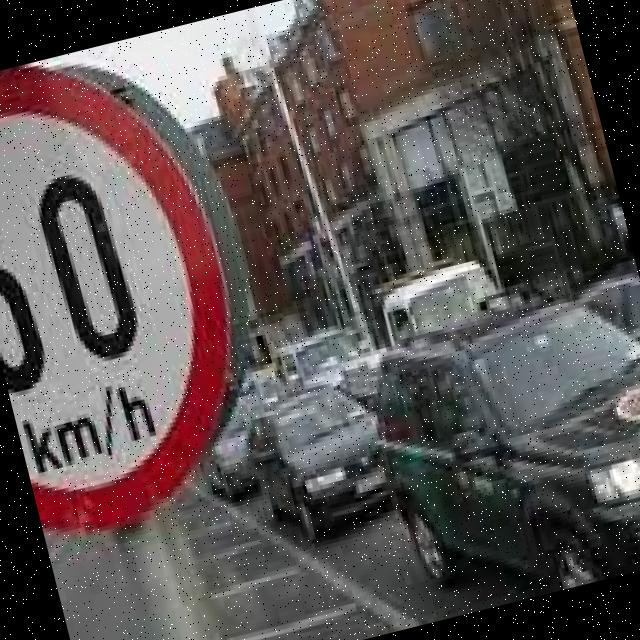speed_limit_30: (0, 26, 289, 543)
